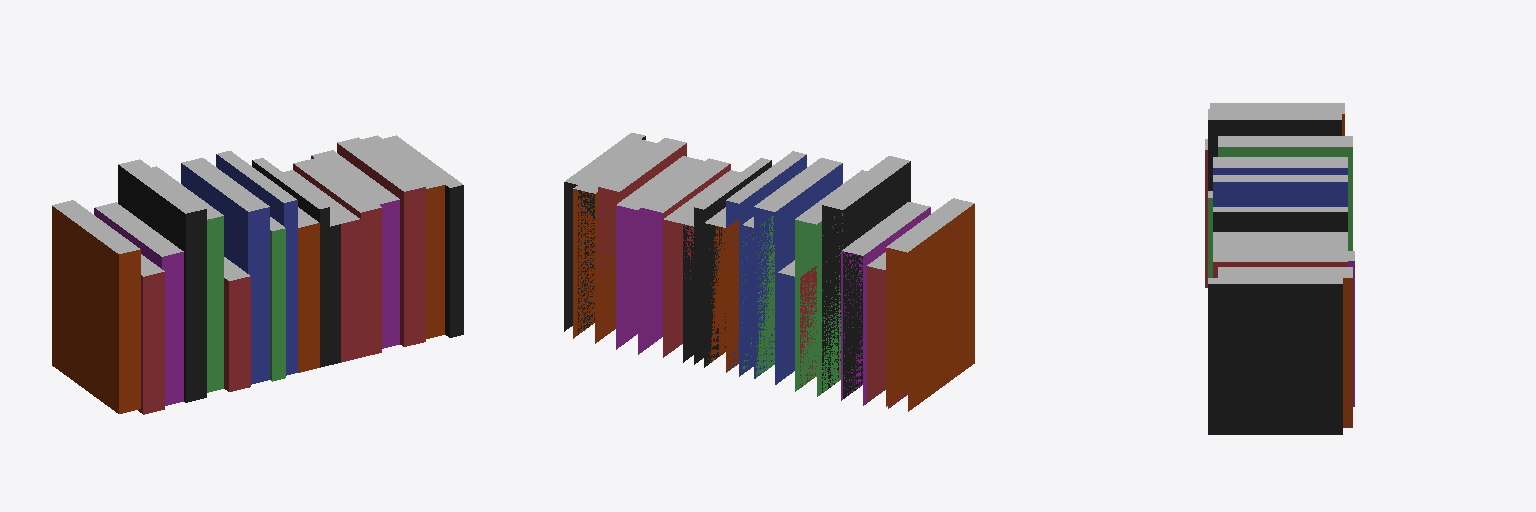
File: Books.obj
3 views of the same model, side by side, from view 1: azimuth 30°, elevation 25°; view 2: azimuth 150°, elevation 25°; view 3: azimuth 270°, elevation 25° (orthographic).
Visible parts, largest first — view 1: Cube.036; view 2: Cube.036; view 3: Cube.036.
Part boxes in pixels (x1,y1,x2,y2): Cube.036: (52, 135, 463, 414); Cube.036: (564, 133, 974, 411); Cube.036: (1205, 103, 1354, 434).
Size of the model in its own units: 31.54 by 16.58 by 11.94.